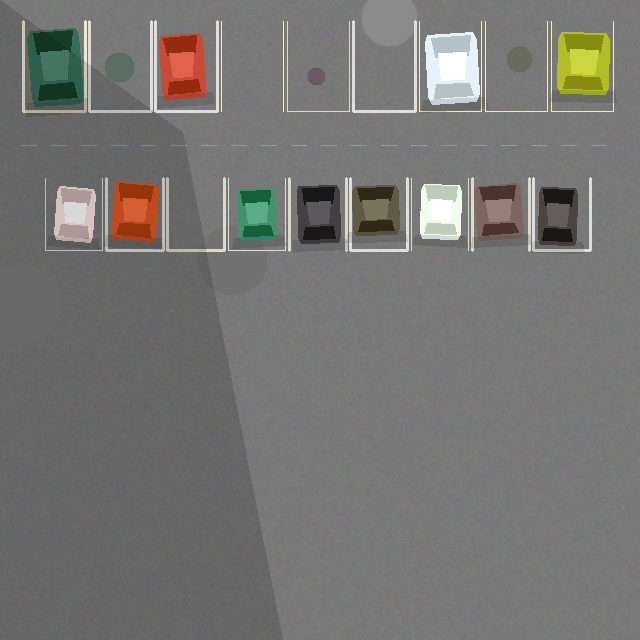space-empty: (89, 21, 151, 111), (221, 21, 283, 111), (287, 21, 349, 111), (353, 21, 415, 111), (485, 21, 547, 111), (167, 178, 224, 250)
space-occupied: (23, 21, 85, 111), (155, 21, 217, 111), (419, 21, 481, 111), (551, 21, 613, 111), (45, 178, 102, 250), (106, 178, 163, 250), (228, 178, 285, 250), (289, 178, 346, 250), (350, 178, 407, 250), (411, 178, 468, 250), (472, 178, 529, 250), (533, 178, 590, 250)
